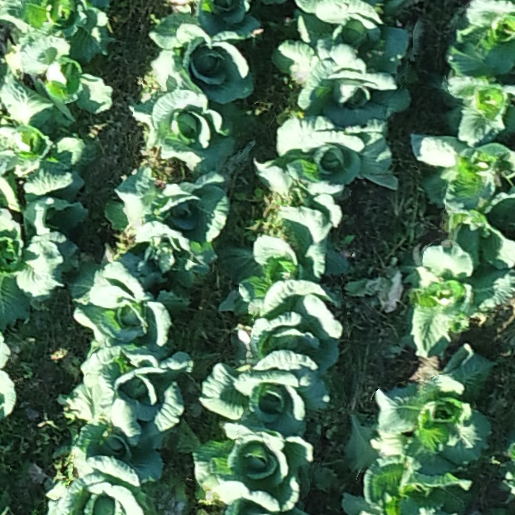Cabbage: (376, 344, 496, 475), (65, 242, 192, 358), (216, 210, 350, 314), (398, 240, 515, 357), (105, 161, 231, 260), (272, 39, 412, 126), (197, 350, 331, 437), (0, 74, 91, 197), (253, 114, 400, 190), (81, 348, 194, 444), (194, 424, 314, 513), (67, 375, 164, 485), (231, 280, 342, 374), (129, 89, 249, 174), (0, 208, 79, 331), (293, 0, 412, 75), (15, 33, 113, 122), (150, 22, 255, 105), (339, 454, 471, 515), (410, 135, 515, 211), (0, 0, 116, 61), (429, 76, 515, 148), (149, 0, 261, 50), (443, 1, 515, 78), (256, 167, 350, 225), (450, 192, 515, 270), (45, 473, 157, 515), (138, 236, 211, 298), (21, 174, 91, 238)
